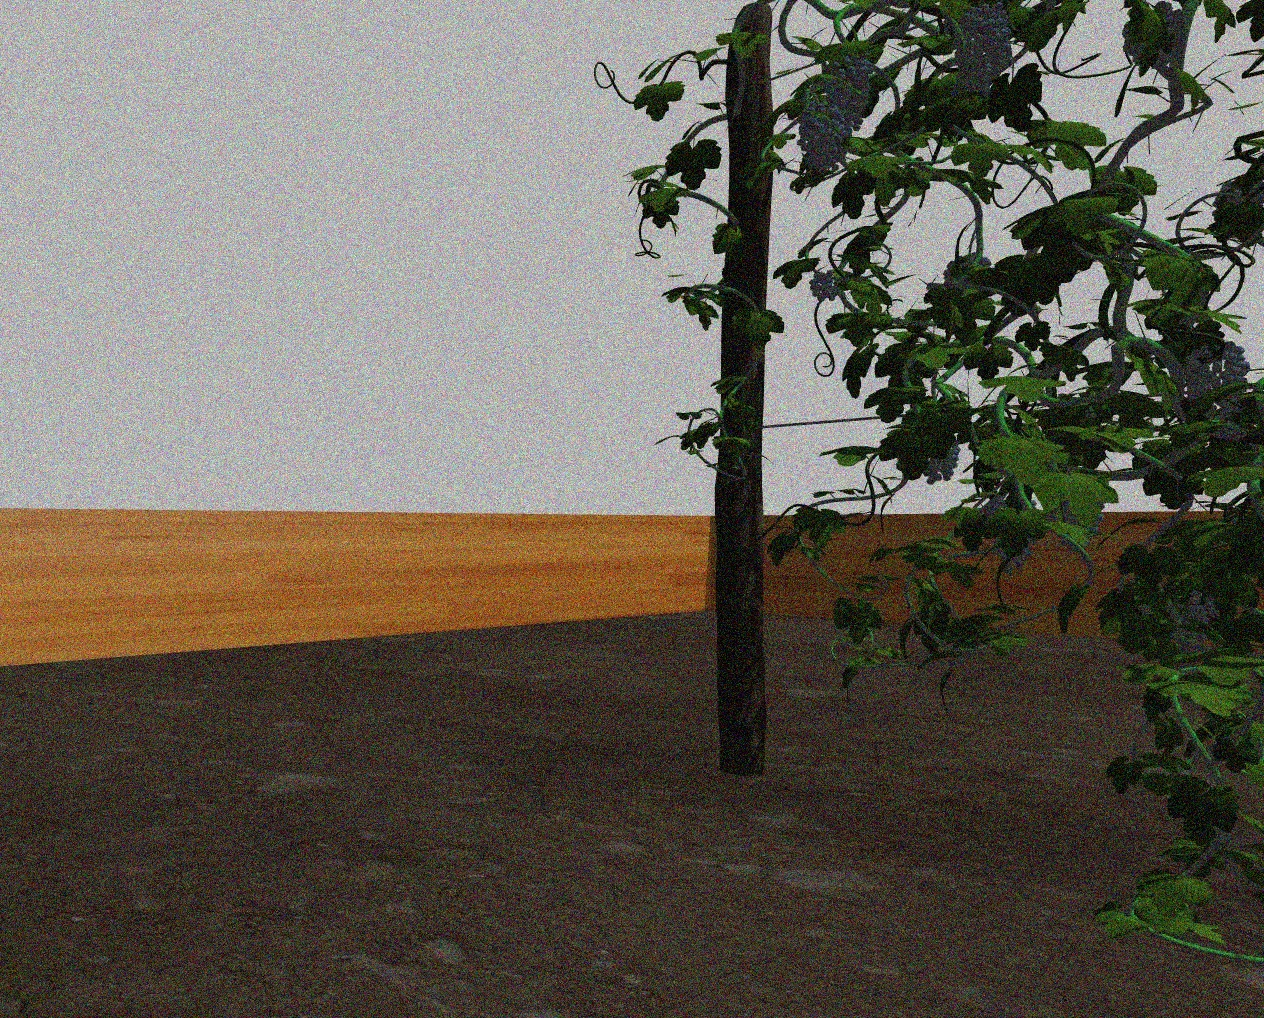grape: (952, 1, 1015, 98), (1179, 341, 1252, 422), (796, 103, 845, 175), (823, 58, 872, 130), (808, 269, 842, 305)
